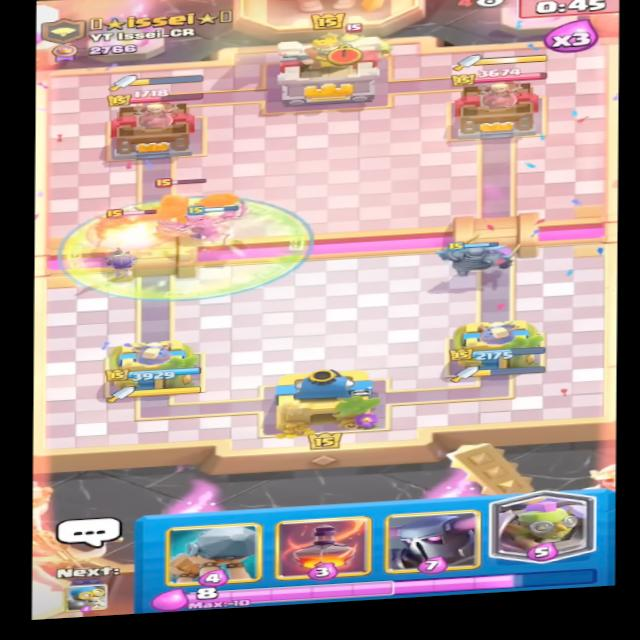Goblindemolisher: (327, 16, 392, 63)
Pekka: (94, 198, 185, 247)
Pheonix: (134, 176, 234, 231)
